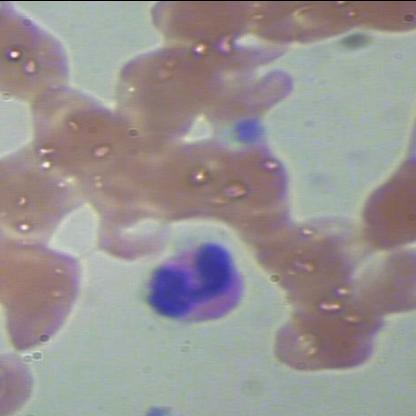Platelets: (234, 114, 266, 148), (137, 396, 175, 415)
RBC: (1, 242, 89, 354), (113, 46, 228, 121), (273, 316, 389, 374), (357, 150, 415, 251), (145, 1, 259, 52), (240, 1, 354, 52), (218, 141, 294, 214), (1, 39, 82, 107), (31, 78, 116, 142), (89, 196, 175, 259), (58, 116, 144, 179), (350, 240, 415, 316), (336, 0, 416, 40)
WBC: (140, 231, 254, 339)
